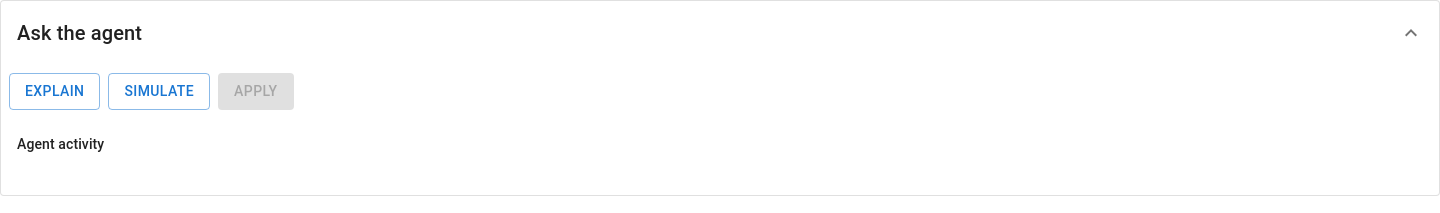
AgentPanel (screen.custom / agent-panel) › collapses and expands
Click the button with test id "agent-toggle" at (1411, 33), box [1391,13,1431,53]
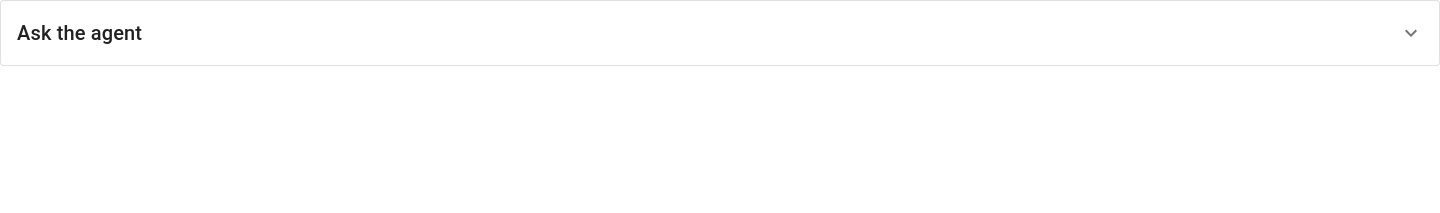
Now the button with test id "agent-toggle" is collapsed, box [1391,13,1431,53]
